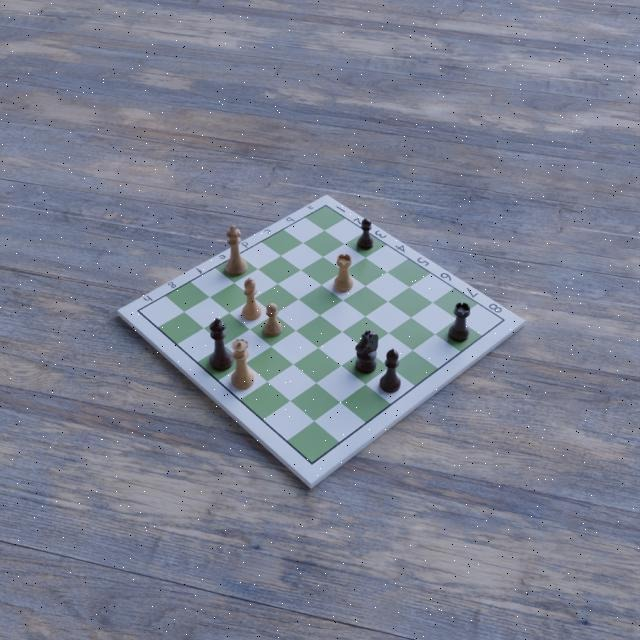black-bishop: (377, 347, 403, 394)
black-king: (208, 317, 232, 375)
black-knight: (355, 330, 378, 376)
black-pawn: (355, 218, 375, 252)
black-rook: (447, 300, 473, 344)
white-bishop: (241, 275, 262, 323)
white-king: (225, 225, 248, 279)
white-pawn: (263, 301, 281, 339)
white-queen: (231, 338, 253, 393)
white-rook: (333, 253, 354, 294)
